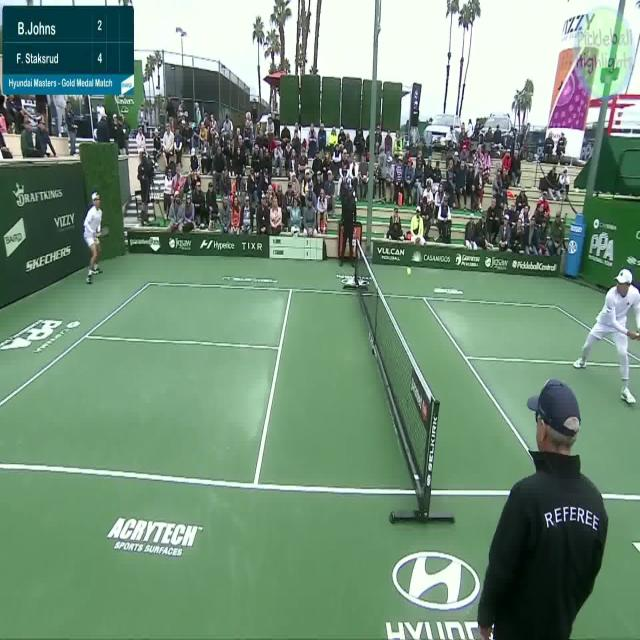ball: (407, 267, 411, 275)
